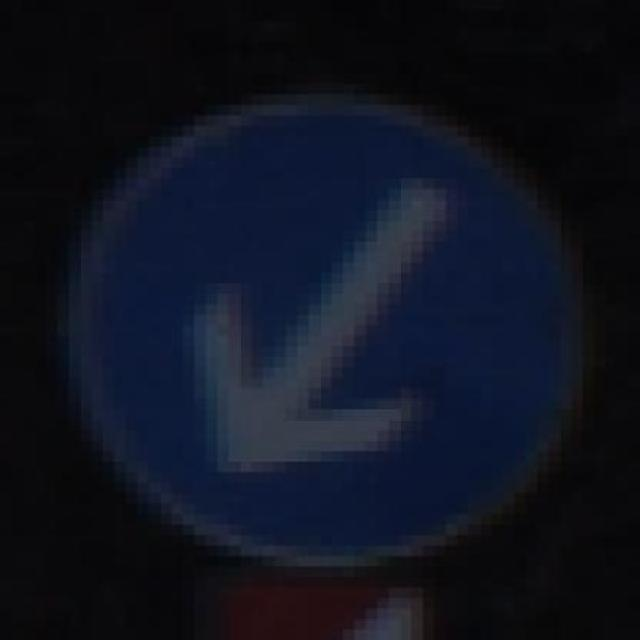Keep-Left: (53, 66, 590, 580)
